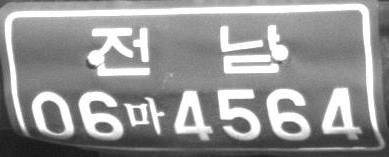0: (30, 90, 75, 140)
4: (320, 86, 362, 139), (173, 89, 212, 141)
5: (216, 88, 261, 142)
6: (265, 87, 312, 141), (77, 90, 124, 140)
마: (124, 95, 166, 135)
전남_D: (90, 24, 281, 75)
